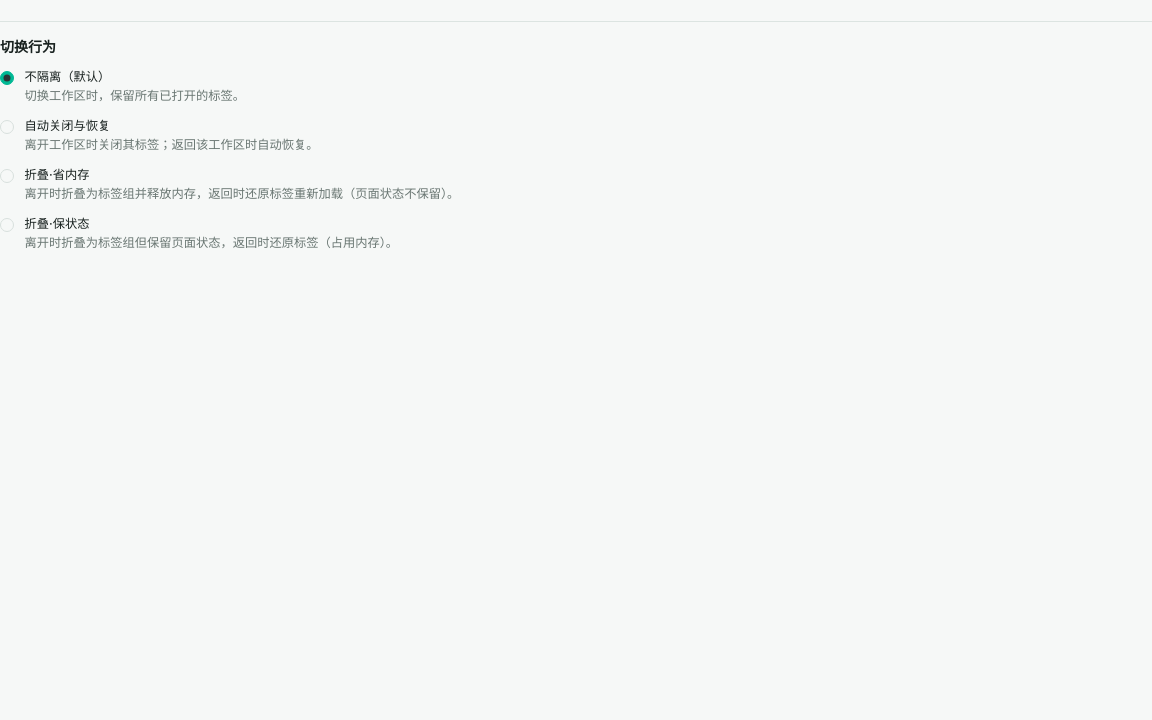
Test: WorkspaceTabsSection — 工作区标签隔离设置分区 › off→close + 本窗有可归档 tab → 弹确认 Dialog（N=2）；取消则保留 off
Expected: the radio button named "不隔离" next to "不隔离（默认）" is checked, top-left (0, 71), bottom-right (14, 85)
Click the radio button named "自动关闭与恢复" next to "自动关闭与恢复".
click(7, 127)  # box top-left (0, 120), bottom-right (14, 134)
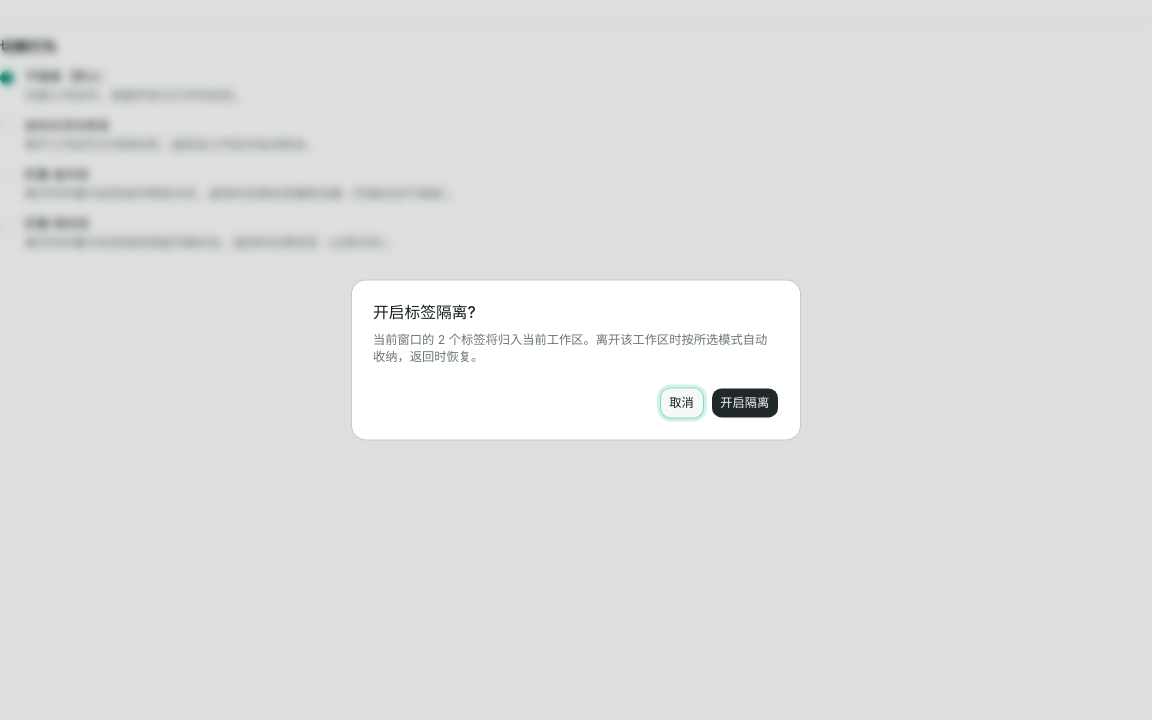
Expected: the dialog shows "2 个标签", top-left (352, 280), bottom-right (800, 440)
Click the button "取消".
click(682, 403)  # box top-left (660, 387), bottom-right (704, 419)
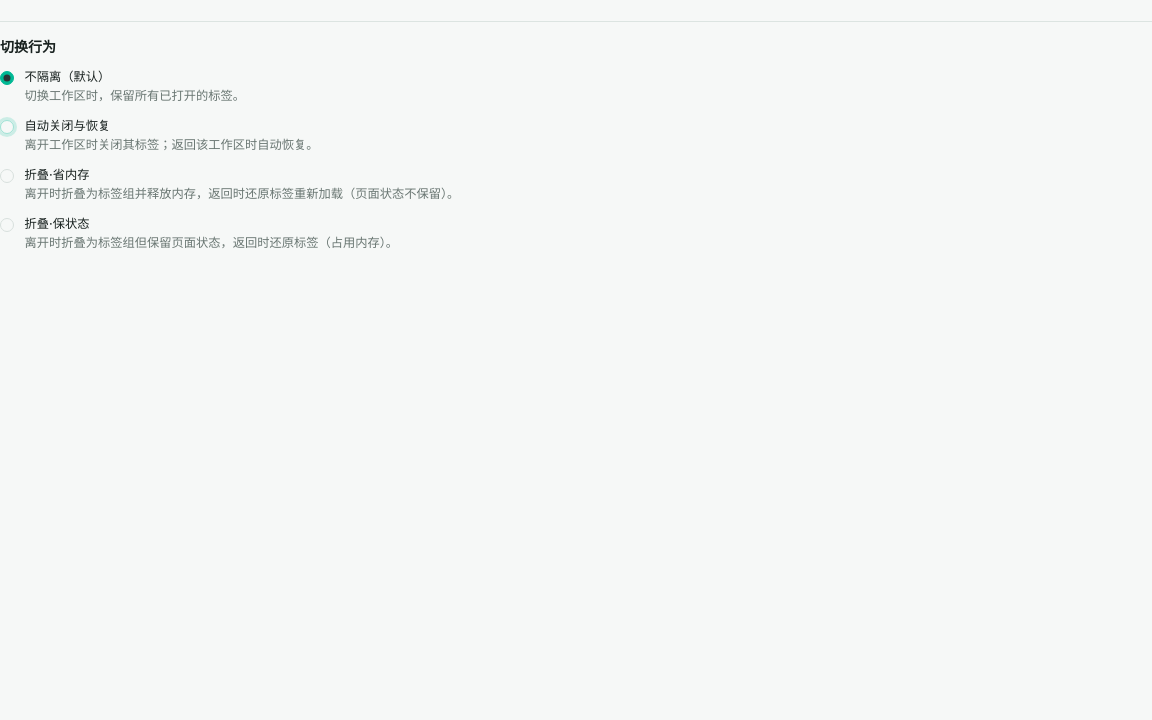
Expected: the radio button named "不隔离（默认）" next to "不隔离（默认）" is checked, top-left (0, 71), bottom-right (14, 85)
Expected: the dialog is gone
